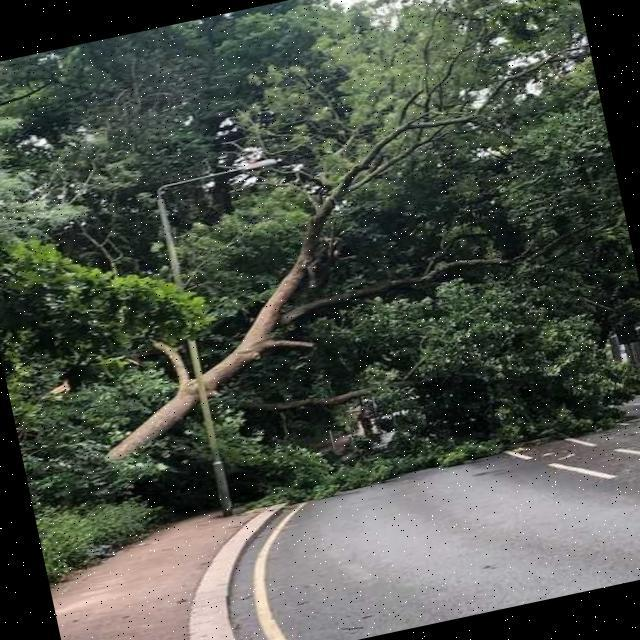fallen_object: (66, 252, 388, 505), (234, 307, 596, 481)
